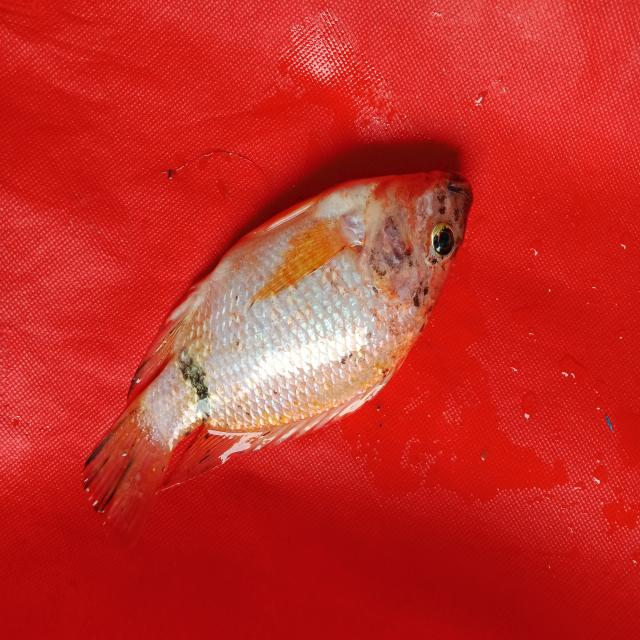ikan: (70, 113, 483, 547)
